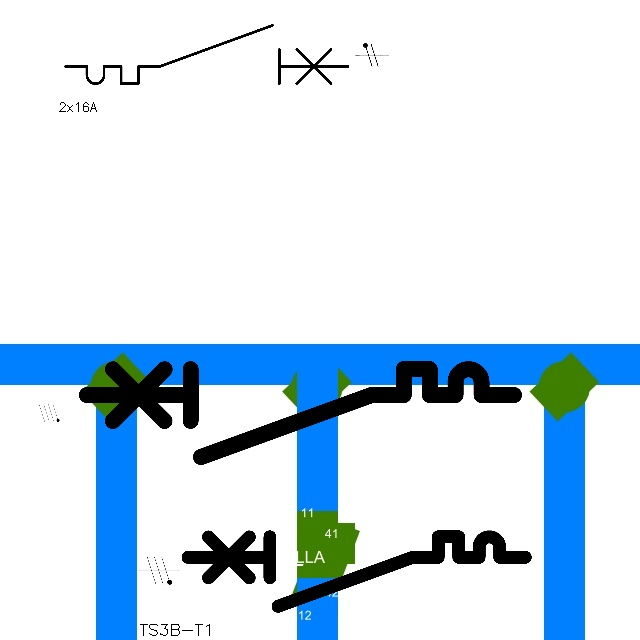interruptor_termomagnetico: (75, 358, 524, 468), (179, 528, 534, 615), (58, 18, 355, 91)
